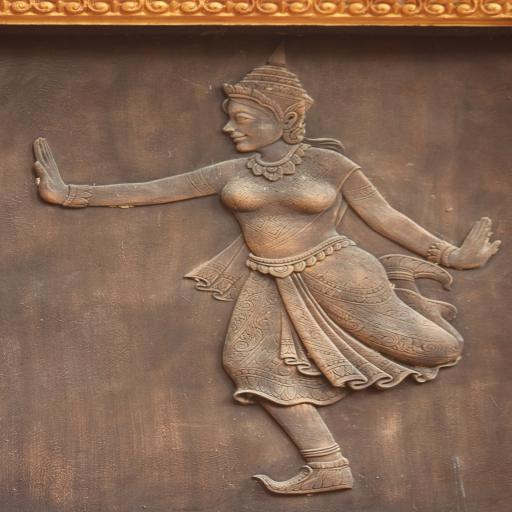than: (33, 46, 501, 496)
